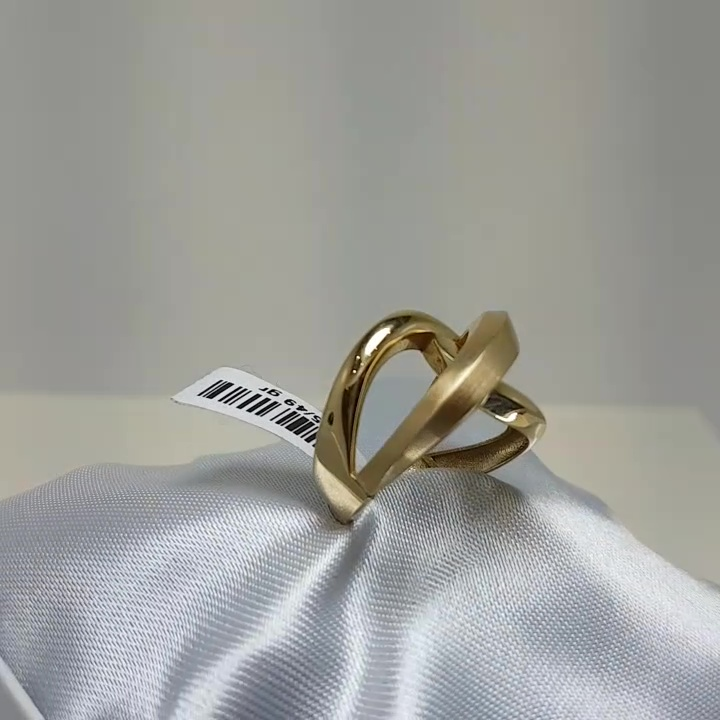Ring 3: (310, 293, 556, 528)
